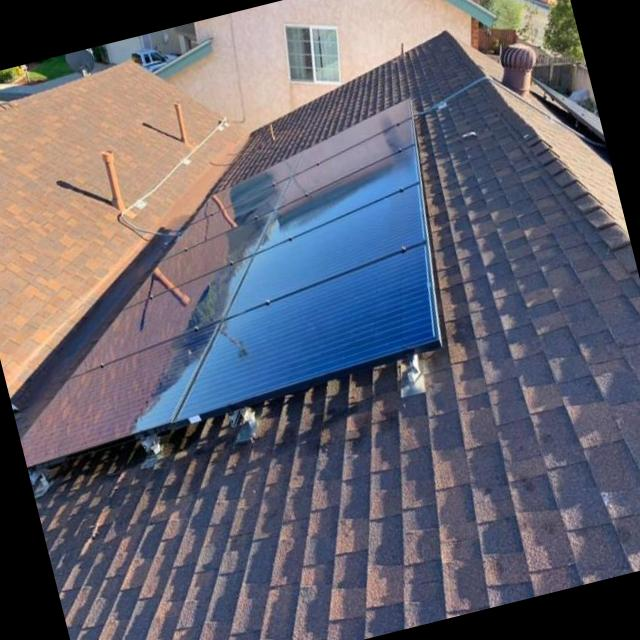no faulty: (173, 243, 437, 421), (21, 323, 217, 467), (225, 184, 425, 314), (70, 259, 250, 375), (257, 146, 419, 250), (125, 211, 273, 307), (277, 120, 413, 205), (167, 181, 286, 256), (295, 99, 410, 171), (191, 154, 297, 221)
